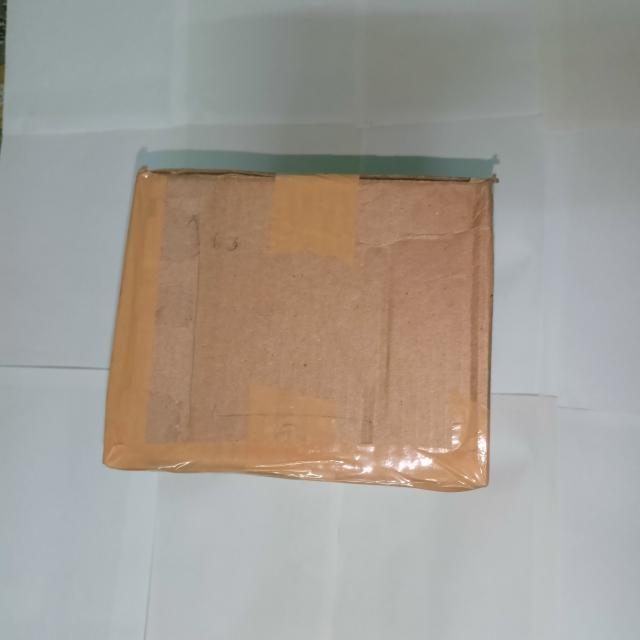box: (103, 173, 497, 485)
